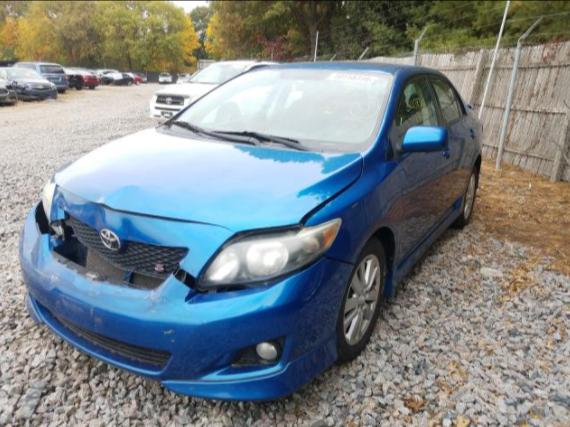Broken part: (16, 178, 358, 402), (293, 161, 365, 229)
Dent: (30, 185, 172, 309)
Scratch: (76, 306, 109, 328), (160, 325, 183, 344)
